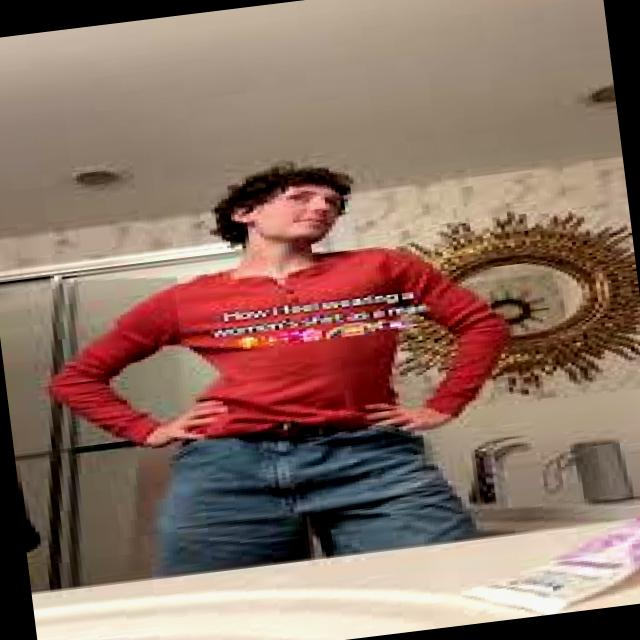face: (235, 184, 344, 242)
lower-wear: (156, 426, 477, 576)
top-wear: (49, 247, 506, 444)
